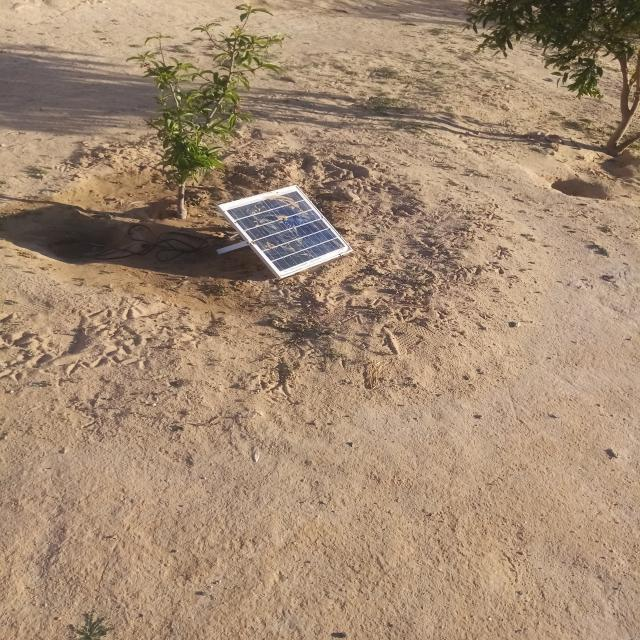faulty: (218, 185, 353, 278)
